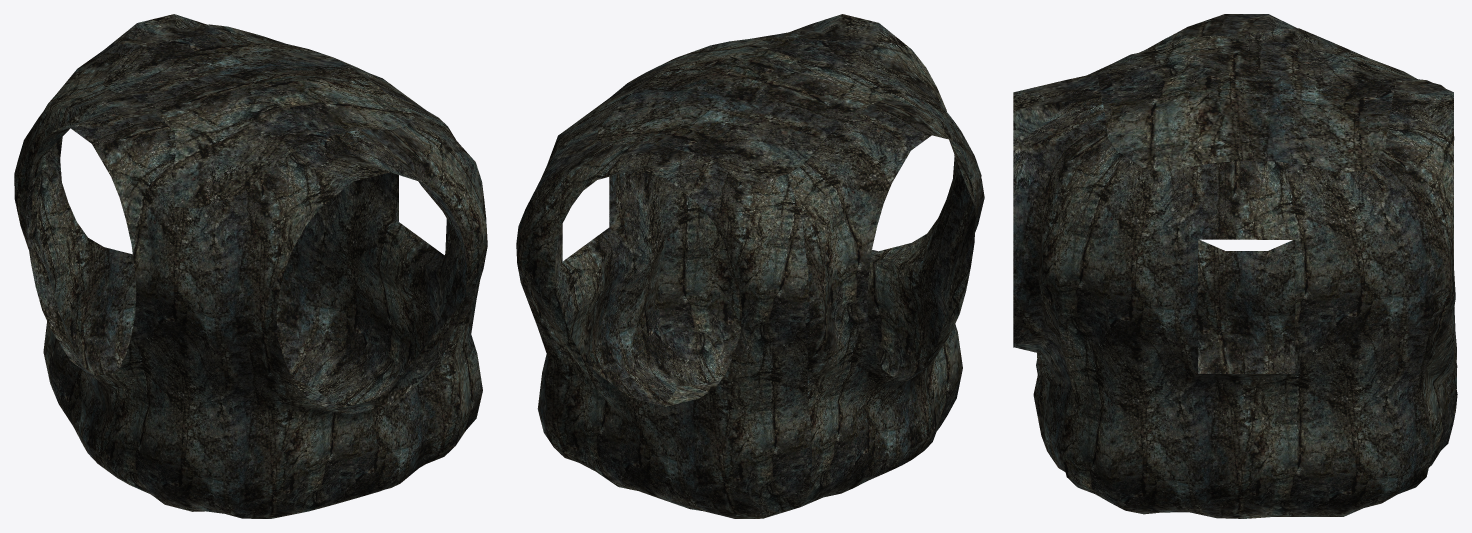
Rendered from 02_07_flushtunnel_hub_special.dae.
3 renders of one model, left to right at view 1: azimuth 30°, elevation 25°; view 2: azimuth 150°, elevation 25°; view 3: azimuth 270°, elevation 25°, orthographic. The views are drawn at different scales.
Parts seen in each view (by area): view 1: flushtunnel_hub_special; view 2: flushtunnel_hub_special; view 3: flushtunnel_hub_special.
Boxes of the visible parts, x1,y1,x2,y2 form: flushtunnel_hub_special: [14, 14, 487, 518]; flushtunnel_hub_special: [516, 14, 984, 518]; flushtunnel_hub_special: [1013, 14, 1457, 518].
Bounding box in the file's own units: 7.86 × 8.26 × 8.57.
